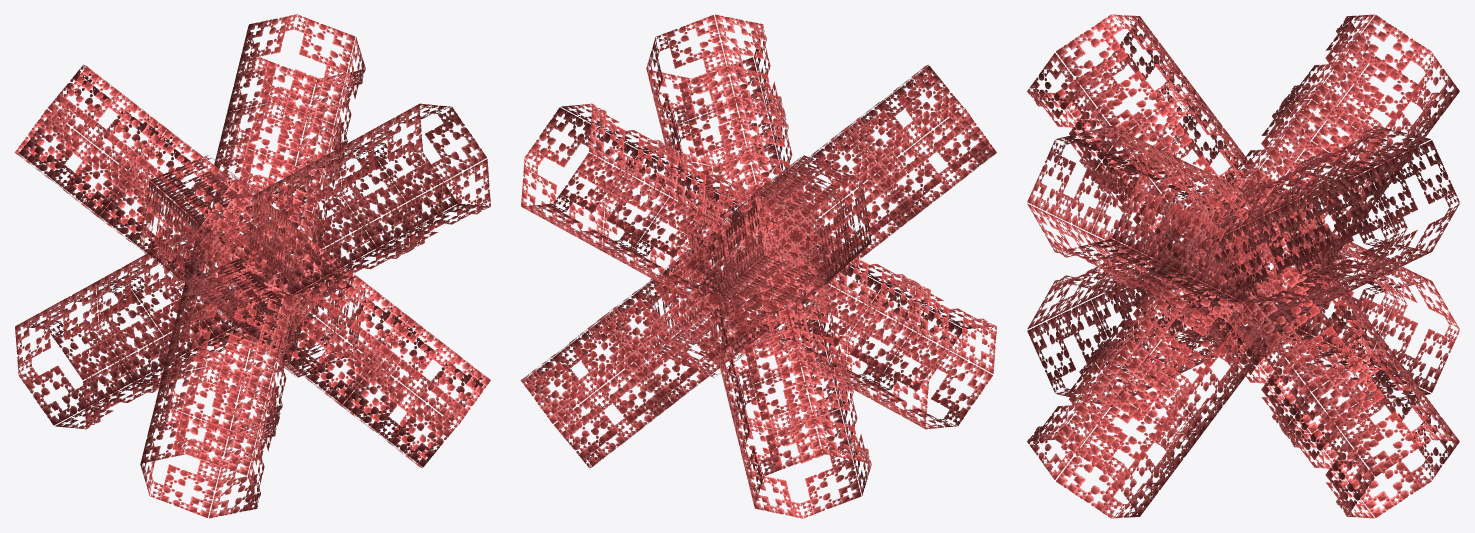
Rendered from Hexahemioctacron6.gltf.
3 views of the same model, side by side, from view 1: azimuth 30°, elevation 25°; view 2: azimuth 150°, elevation 25°; view 3: azimuth 270°, elevation 25° (orthographic). The views are drawn at different scales.
Parts seen in each view (by area): view 1: Hexahemioctacron1; view 2: Hexahemioctacron1; view 3: Hexahemioctacron1.
Boxes of the visible parts, box(x1,y1,x2,y2) form: Hexahemioctacron1: box(14, 14, 490, 518); Hexahemioctacron1: box(520, 14, 996, 518); Hexahemioctacron1: box(1027, 14, 1459, 518).
Bounding box in the file's own units: 6.25 × 6.25 × 6.25.
Materials: 1 (1 with a texture image).
